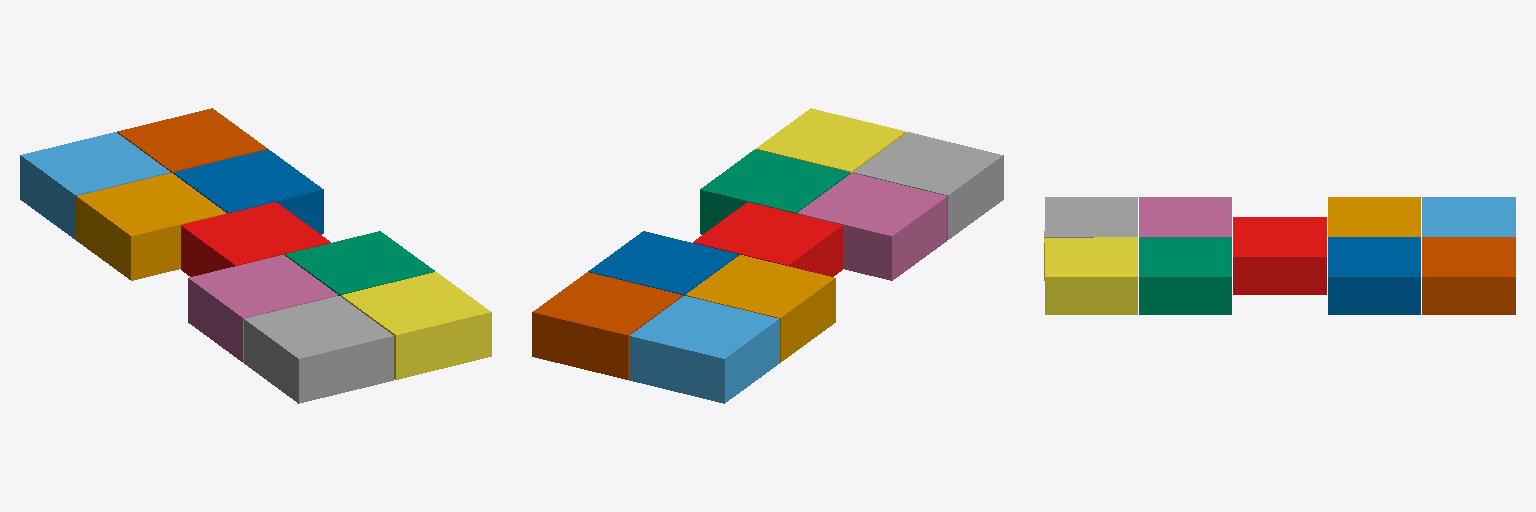
URDF robot description (rob):
<?xml version='1.0' encoding='UTF-8'?>
<robot name="rob">
  <link name="set5_arm1">
    <inertial>
      <origin xyz="0.0 0.34 0.0" rpy="0.0 0.0 0.0"/>
      <mass value="1.0"/>
      <inertia ixx="0.0" ixy="0.0" ixz="0.0" iyy="0.0" iyz="0.0" izz="0.0"/>
    </inertial>
    <visual>
      <geometry>
        <box size="0.67 0.67 0.3 "/>
      </geometry>
      <origin xyz="0.0 0.34 0.0" rpy="0.0 0.0 0.0"/>
    </visual>
    <collision>
      <geometry>
        <box size="0.67 0.67 0.3 "/>
      </geometry>
      <origin xyz="0.0 0.34 0.0" rpy="0.0 0.0 0.0"/>
    </collision>
  </link>
  <link name="set5_arm2">
    <inertial>
      <origin xyz="0.0 0.34 0.0" rpy="0.0 0.0 0.0"/>
      <mass value="1.0"/>
      <inertia ixx="0.0" ixy="0.0" ixz="0.0" iyy="0.0" iyz="0.0" izz="0.0"/>
    </inertial>
    <visual>
      <geometry>
        <box size="0.67 0.67 0.3 "/>
      </geometry>
      <origin xyz="0.0 0.34 0.0" rpy="0.0 0.0 0.0"/>
    </visual>
    <collision>
      <geometry>
        <box size="0.67 0.67 0.3 "/>
      </geometry>
      <origin xyz="0.0 0.34 0.0" rpy="0.0 0.0 0.0"/>
    </collision>
  </link>
  <link name="set6_arm1">
    <inertial>
      <origin xyz="0.0 0.34 0.0" rpy="0.0 0.0 0.0"/>
      <mass value="1.0"/>
      <inertia ixx="0.0" ixy="0.0" ixz="0.0" iyy="0.0" iyz="0.0" izz="0.0"/>
    </inertial>
    <visual>
      <geometry>
        <box size="0.67 0.67 0.3 "/>
      </geometry>
      <origin xyz="0.0 0.34 0.0" rpy="0.0 0.0 0.0"/>
    </visual>
    <collision>
      <geometry>
        <box size="0.67 0.67 0.3 "/>
      </geometry>
      <origin xyz="0.0 0.34 0.0" rpy="0.0 0.0 0.0"/>
    </collision>
  </link>
  <link name="set6_arm2">
    <inertial>
      <origin xyz="0.0 0.34 0.0" rpy="0.0 0.0 0.0"/>
      <mass value="1.0"/>
      <inertia ixx="0.0" ixy="0.0" ixz="0.0" iyy="0.0" iyz="0.0" izz="0.0"/>
    </inertial>
    <visual>
      <geometry>
        <box size="0.67 0.67 0.3 "/>
      </geometry>
      <origin xyz="0.0 0.34 0.0" rpy="0.0 0.0 0.0"/>
    </visual>
    <collision>
      <geometry>
        <box size="0.67 0.67 0.3 "/>
      </geometry>
      <origin xyz="0.0 0.34 0.0" rpy="0.0 0.0 0.0"/>
    </collision>
  </link>
  <link name="set7_arm1">
    <inertial>
      <origin xyz="0.0 0.34 0.0" rpy="0.0 0.0 0.0"/>
      <mass value="1.0"/>
      <inertia ixx="0.0" ixy="0.0" ixz="0.0" iyy="0.0" iyz="0.0" izz="0.0"/>
    </inertial>
    <visual>
      <geometry>
        <box size="0.67 0.67 0.3 "/>
      </geometry>
      <origin xyz="0.0 0.34 0.0" rpy="0.0 0.0 0.0"/>
    </visual>
    <collision>
      <geometry>
        <box size="0.67 0.67 0.3 "/>
      </geometry>
      <origin xyz="0.0 0.34 0.0" rpy="0.0 0.0 0.0"/>
    </collision>
  </link>
  <link name="set7_arm2">
    <inertial>
      <origin xyz="0.0 0.34 0.0" rpy="0.0 0.0 0.0"/>
      <mass value="1.0"/>
      <inertia ixx="0.0" ixy="0.0" ixz="0.0" iyy="0.0" iyz="0.0" izz="0.0"/>
    </inertial>
    <visual>
      <geometry>
        <box size="0.67 0.67 0.3 "/>
      </geometry>
      <origin xyz="0.0 0.34 0.0" rpy="0.0 0.0 0.0"/>
    </visual>
    <collision>
      <geometry>
        <box size="0.67 0.67 0.3 "/>
      </geometry>
      <origin xyz="0.0 0.34 0.0" rpy="0.0 0.0 0.0"/>
    </collision>
  </link>
  <link name="set8_arm1">
    <inertial>
      <origin xyz="0.0 0.34 0.0" rpy="0.0 0.0 0.0"/>
      <mass value="1.0"/>
      <inertia ixx="0.0" ixy="0.0" ixz="0.0" iyy="0.0" iyz="0.0" izz="0.0"/>
    </inertial>
    <visual>
      <geometry>
        <box size="0.67 0.67 0.3 "/>
      </geometry>
      <origin xyz="0.0 0.34 0.0" rpy="0.0 0.0 0.0"/>
    </visual>
    <collision>
      <geometry>
        <box size="0.67 0.67 0.3 "/>
      </geometry>
      <origin xyz="0.0 0.34 0.0" rpy="0.0 0.0 0.0"/>
    </collision>
  </link>
  <link name="set8_arm2">
    <inertial>
      <origin xyz="0.0 0.34 0.0" rpy="0.0 0.0 0.0"/>
      <mass value="1.0"/>
      <inertia ixx="0.0" ixy="0.0" ixz="0.0" iyy="0.0" iyz="0.0" izz="0.0"/>
    </inertial>
    <visual>
      <geometry>
        <box size="0.67 0.67 0.3 "/>
      </geometry>
      <origin xyz="0.0 0.34 0.0" rpy="0.0 0.0 0.0"/>
    </visual>
    <collision>
      <geometry>
        <box size="0.67 0.67 0.3 "/>
      </geometry>
      <origin xyz="0.0 0.34 0.0" rpy="0.0 0.0 0.0"/>
    </collision>
  </link>
  <link name="base_link">
    <inertial>
      <origin xyz="0.0 0.0 0.0" rpy="0.0 -0.0 0.0"/>
      <mass value="1.0"/>
      <inertia ixx="1.0" ixy="0.0" ixz="0.0" iyy="1.0" iyz="0.0" izz="1.0"/>
    </inertial>
    <visual>
      <geometry>
        <box size="0.67 0.67 0.3 "/>
      </geometry>
      <material name="red"/>
      <origin xyz="0.0 0.0 0.0" rpy="0.0 -0.0 0.0"/>
    </visual>
    <collision>
      <geometry>
        <box size="0.67 0.67 0.3 "/>
      </geometry>
      <origin xyz="0.0 0.0 0.0" rpy="0.0 0.0 0.0"/>
    </collision>
  </link>
  <joint name="set5_jointBase" type="fixed">
    <limit effort="1.57" velocity="1.57" lower="-1.57" upper="1.57"/>
    <parent link="base_link"/>
    <child link="set5_arm1"/>
    <axis xyz="1. 0. 0."/>
    <origin xyz="-0.34 0.34 0.0" rpy="0.0 0.0 0.0"/>
  </joint>
  <joint name="set5_joint1" type="revolute">
    <limit effort="1.57" velocity="1.57" lower="-1.57" upper="1.57"/>
    <parent link="set5_arm1"/>
    <child link="set5_arm2"/>
    <axis xyz="1. 0. 0."/>
    <origin xyz="0.0 0.68 0.0" rpy="0.0 0.0 0.0"/>
  </joint>
  <joint name="set6_jointBase" type="fixed">
    <limit effort="1.57" velocity="1.57" lower="-1.57" upper="1.57"/>
    <parent link="base_link"/>
    <child link="set6_arm1"/>
    <axis xyz="1. 0. 0."/>
    <origin xyz="0.34 -0.34 0.0" rpy="0.0 0.0 -3.14"/>
  </joint>
  <joint name="set6_joint1" type="revolute">
    <limit effort="1.57" velocity="1.57" lower="-1.57" upper="1.57"/>
    <parent link="set6_arm1"/>
    <child link="set6_arm2"/>
    <axis xyz="1. 0. 0."/>
    <origin xyz="0.0 0.68 0.0" rpy="0.0 0.0 0.0"/>
  </joint>
  <joint name="set7_jointBase" type="fixed">
    <limit effort="1.57" velocity="1.57" lower="-1.57" upper="1.57"/>
    <parent link="base_link"/>
    <child link="set7_arm1"/>
    <axis xyz="1. 0. 0."/>
    <origin xyz="0.34 0.34 0.0" rpy="0.0 0.0 0.0"/>
  </joint>
  <joint name="set7_joint1" type="revolute">
    <limit effort="1.57" velocity="1.57" lower="-1.57" upper="1.57"/>
    <parent link="set7_arm1"/>
    <child link="set7_arm2"/>
    <axis xyz="1. 0. 0."/>
    <origin xyz="0.0 0.68 0.0" rpy="0.0 0.0 0.0"/>
  </joint>
  <joint name="set8_jointBase" type="fixed">
    <limit effort="1.57" velocity="1.57" lower="-1.57" upper="1.57"/>
    <parent link="base_link"/>
    <child link="set8_arm1"/>
    <axis xyz="1. 0. 0."/>
    <origin xyz="-0.34 -0.34 0.0" rpy="0.0 0.0 3.14"/>
  </joint>
  <joint name="set8_joint1" type="revolute">
    <limit effort="1.57" velocity="1.57" lower="-1.57" upper="1.57"/>
    <parent link="set8_arm1"/>
    <child link="set8_arm2"/>
    <axis xyz="1. 0. 0."/>
    <origin xyz="0.0 0.68 0.0" rpy="0.0 0.0 0.0"/>
  </joint>
  <material name="red">
    <color rgba="0.969 0.129 0.122 1.   "/>
  </material>
</robot>

--- Render facts (derived) ---
3 views of the same robot in one strip: view 1: azimuth 30°, elevation 25°; view 2: azimuth 150°, elevation 25°; view 3: azimuth 270°, elevation 25° (orthographic).
Model rob with 9 links and 8 joints (4 revolute, 4 fixed), rooted at base_link, posed every joint at zero.
Visible links, largest first — view 1: set8_arm2, set5_arm1, set6_arm2, set5_arm2, set8_arm1, base_link, set7_arm1, set6_arm1, set7_arm2; view 2: set5_arm2, set8_arm1, set7_arm2, set8_arm2, set5_arm1, base_link, set6_arm1, set6_arm2, set7_arm1; view 3: set7_arm2, base_link, set6_arm1, set7_arm1, set6_arm2, set8_arm2, set5_arm2, set5_arm1, set8_arm1.
Link boxes in pixels (box(x1,y1,x2,y2)): set8_arm2: box(244, 296, 393, 403); set5_arm1: box(76, 173, 226, 280); set6_arm2: box(341, 272, 491, 379); set5_arm2: box(20, 132, 170, 239); set8_arm1: box(188, 255, 337, 362); base_link: box(181, 202, 330, 276); set7_arm1: box(173, 149, 323, 234); set6_arm1: box(285, 231, 434, 295); set7_arm2: box(117, 108, 267, 172); set5_arm2: box(629, 296, 779, 403); set8_arm1: box(797, 173, 946, 280); set7_arm2: box(532, 272, 682, 379); set8_arm2: box(853, 132, 1003, 239); set5_arm1: box(685, 255, 835, 362); base_link: box(693, 202, 842, 276); set6_arm1: box(700, 149, 849, 234); set6_arm2: box(756, 108, 905, 173); set7_arm1: box(588, 231, 738, 295); set7_arm2: box(1422, 237, 1515, 314); base_link: box(1233, 217, 1326, 294); set6_arm1: box(1139, 237, 1231, 314); set7_arm1: box(1328, 237, 1420, 314); set6_arm2: box(1044, 237, 1137, 314); set8_arm2: box(1044, 197, 1137, 237); set5_arm2: box(1422, 197, 1515, 236); set5_arm1: box(1328, 197, 1420, 236); set8_arm1: box(1139, 197, 1231, 236).
Bounding box of the posed robot: 1.35 × 3.39 × 0.3 m (x, y, z).
Geometry: primitives only (box / cylinder / sphere), no mesh files.